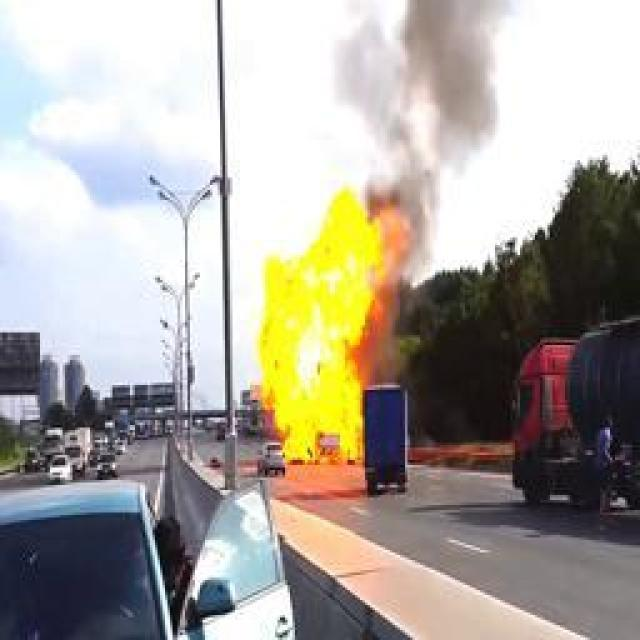Fire: (258, 188, 382, 462)
